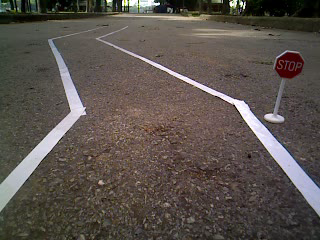Stop: (272, 50, 308, 81)
